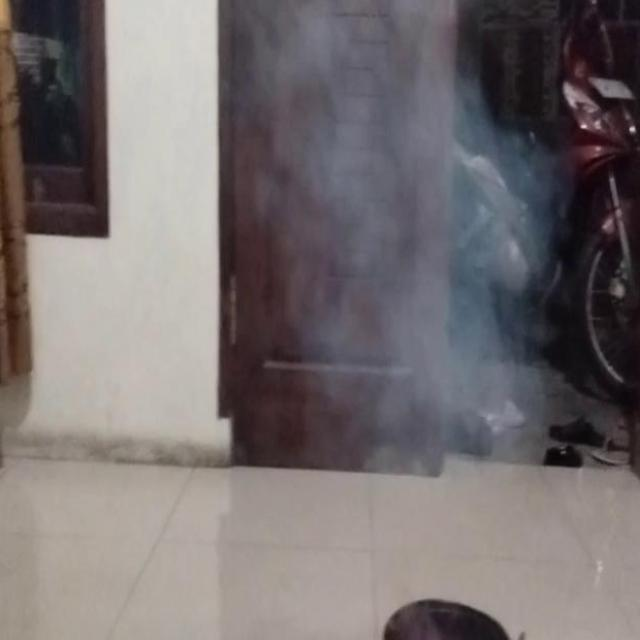fire: (272, 0, 526, 445)
